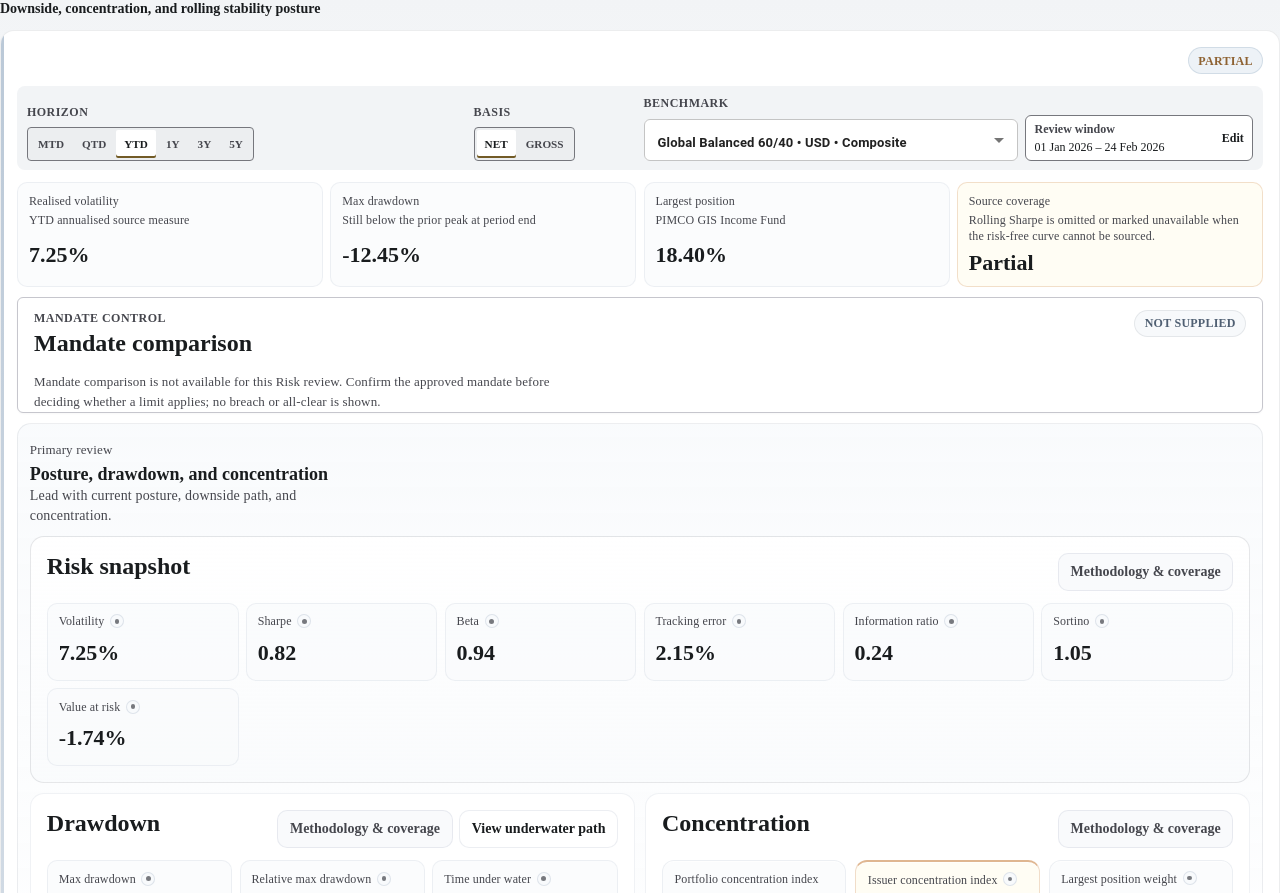
Test: PerformanceRiskMode › renders exact concentration evidence without a browser-authored severity scale
Click the button with aria-label "Concentration methodology and coverage".
click(1146, 829)  # box left=1058, top=810, right=1233, bottom=848
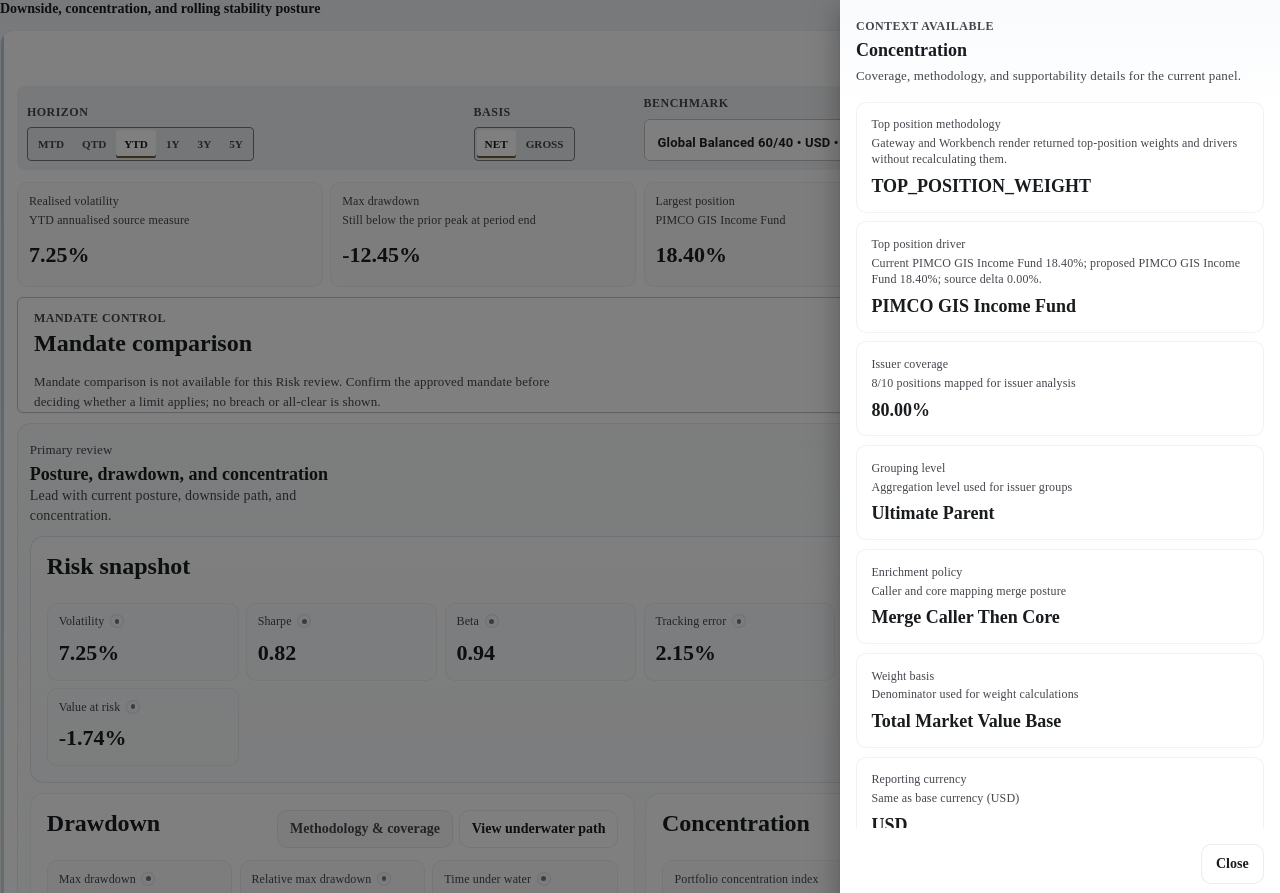
Check: the dialog named "Concentration methodology and coverage" shows "Grouping level", box left=871, top=461, right=945, bottom=475
